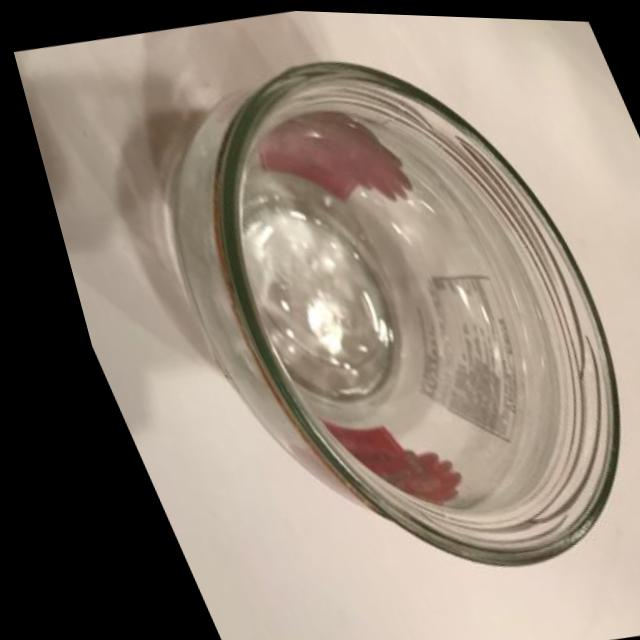glass: (64, 2, 640, 629)
